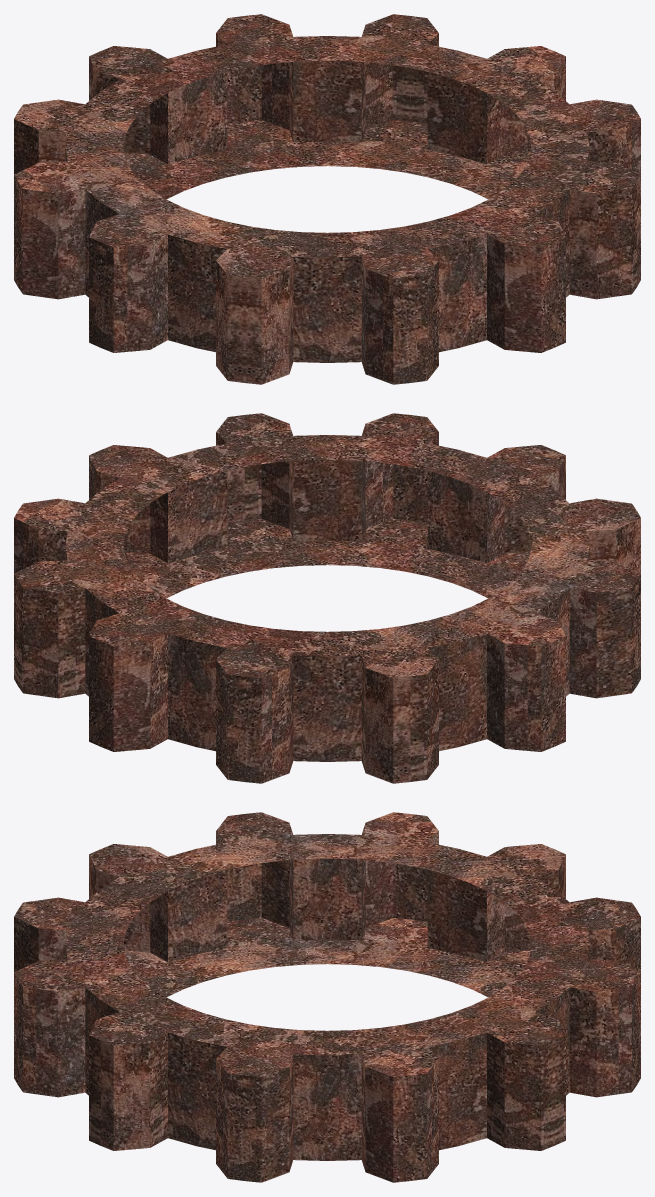
The model's file is gear.fbx.
3 views of the same model, one above another, from view 1: azimuth 30°, elevation 25°; view 2: azimuth 150°, elevation 25°; view 3: azimuth 270°, elevation 25° (orthographic).
Parts seen in each view (by area): view 1: Gear; view 2: Gear; view 3: Gear.
Boxes of the visible parts, <box> form: Gear: <box>14,14,640,384</box>; Gear: <box>14,413,640,783</box>; Gear: <box>14,812,640,1182</box>.
Size of the model in its own units: 2.15 by 0.4 by 2.15.
